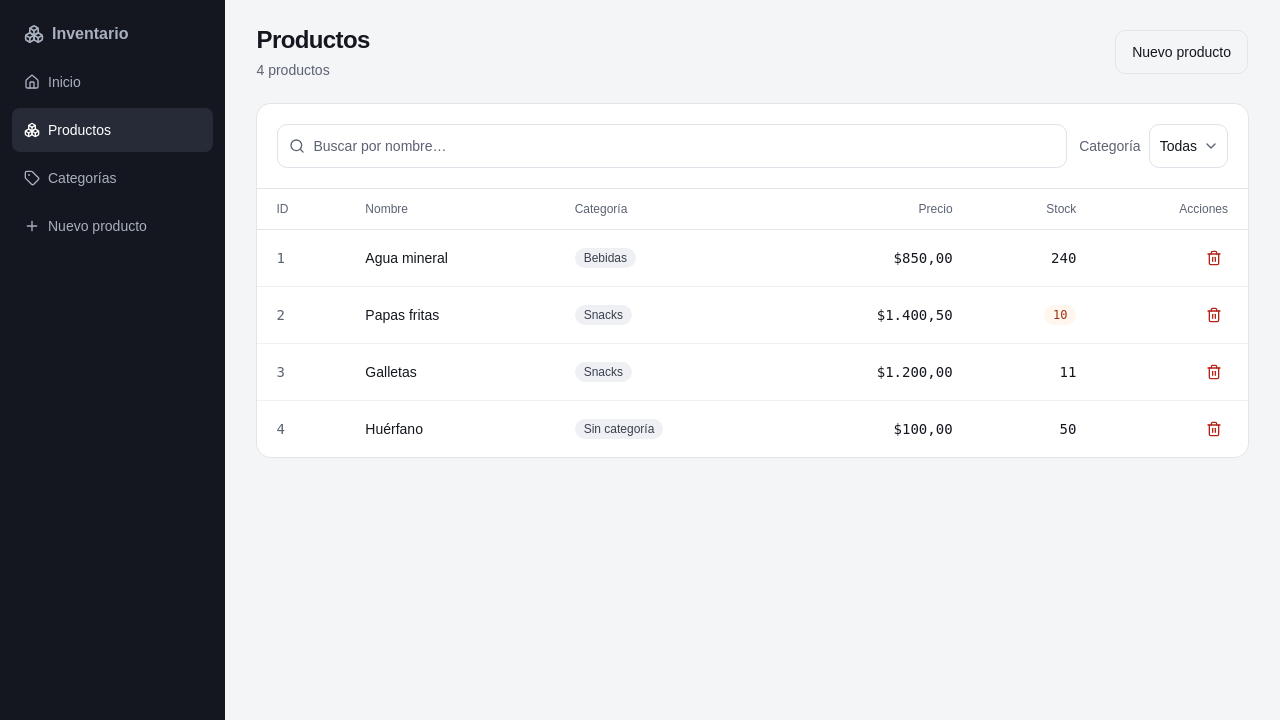
Test: ProductsPage › CA3: elegir una categoría filtra y actualiza ?category=
Expected: the text "Agua mineral" is shown, [345,229,555,286]
Press Enter in the dropdown named "Categoría", box [1149,124,1228,168]
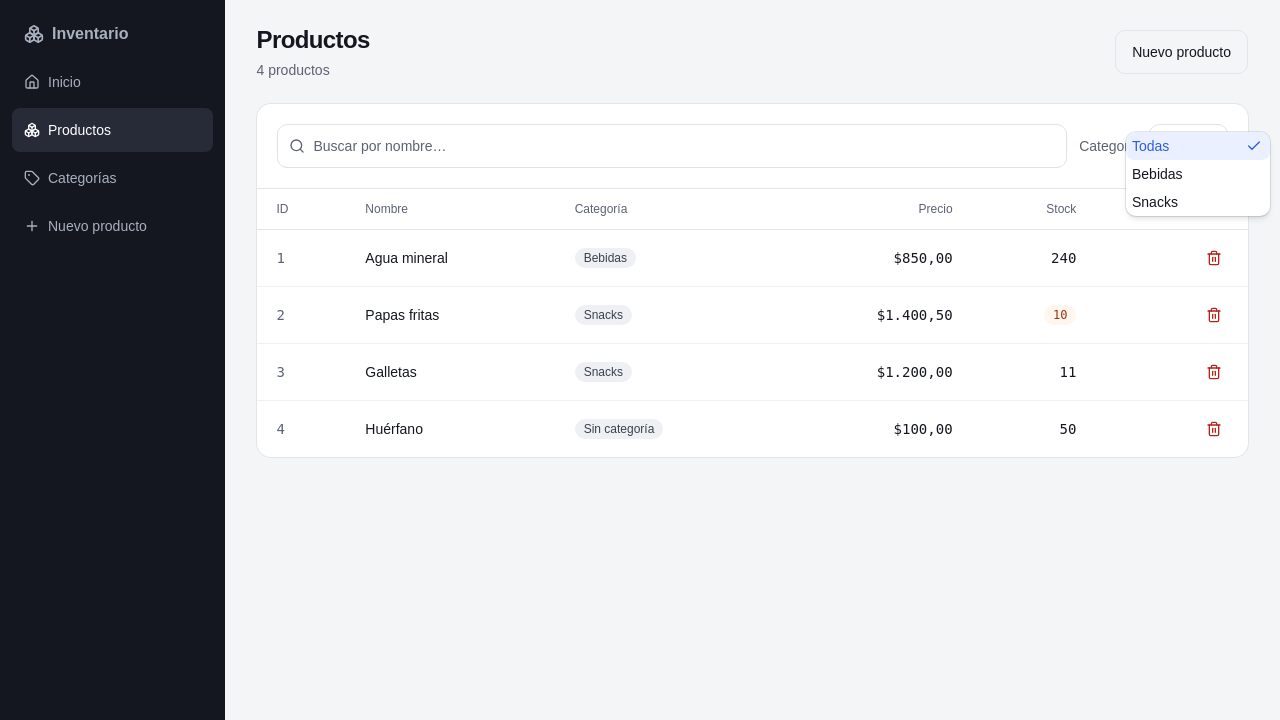
Click the option "Snacks": (1155, 202) [1132,194,1178,210]
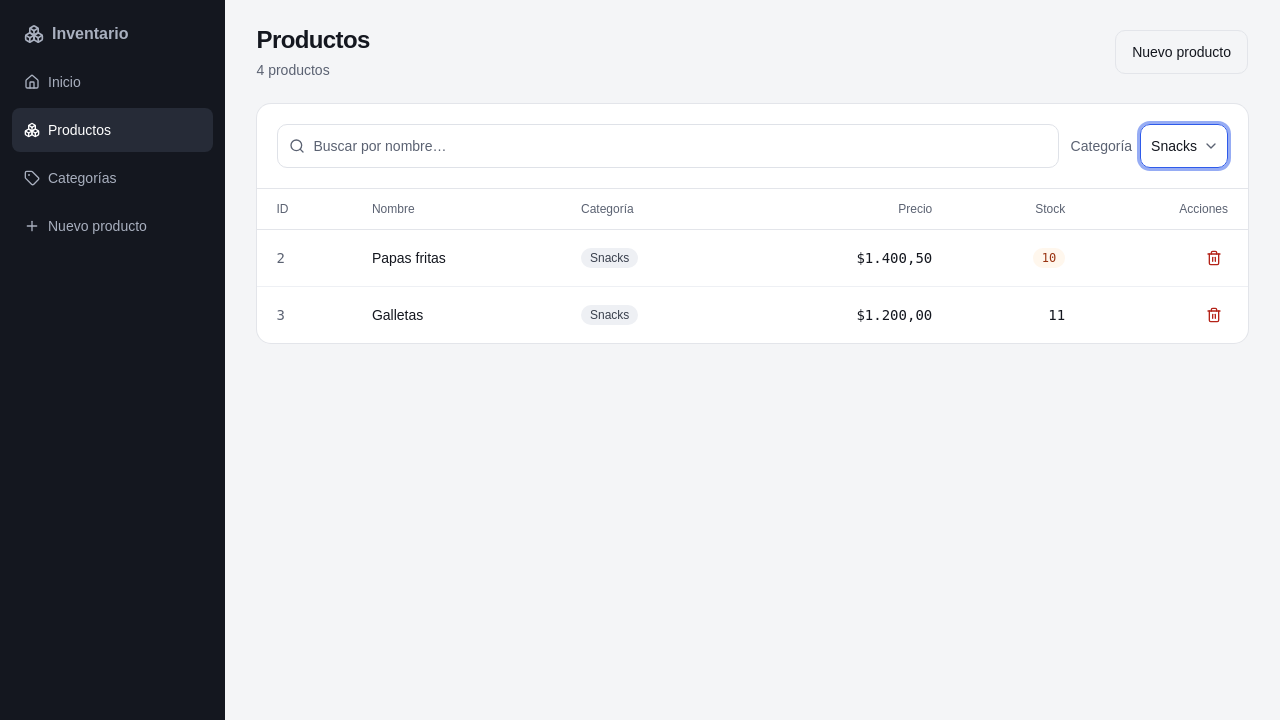
Expected: the text "Papas fritas" is shown, [352,229,561,286]
Now the text "Agua mineral" is gone
